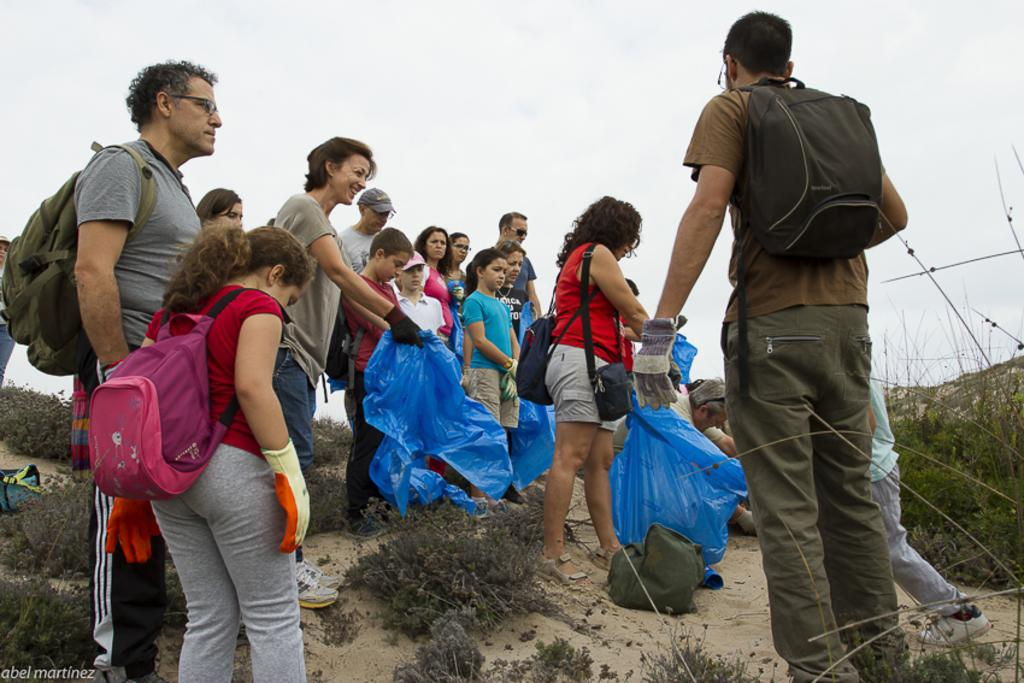Luggage-and-bags: (89, 285, 294, 499), (696, 87, 908, 264), (1, 137, 152, 376), (508, 248, 600, 410), (579, 246, 632, 422), (318, 298, 369, 398)
